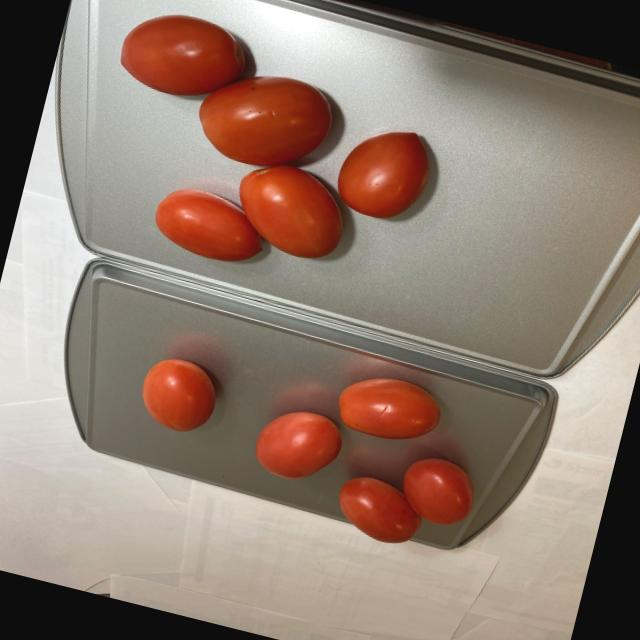tomato: (79, 5, 458, 308), (122, 318, 500, 562)
